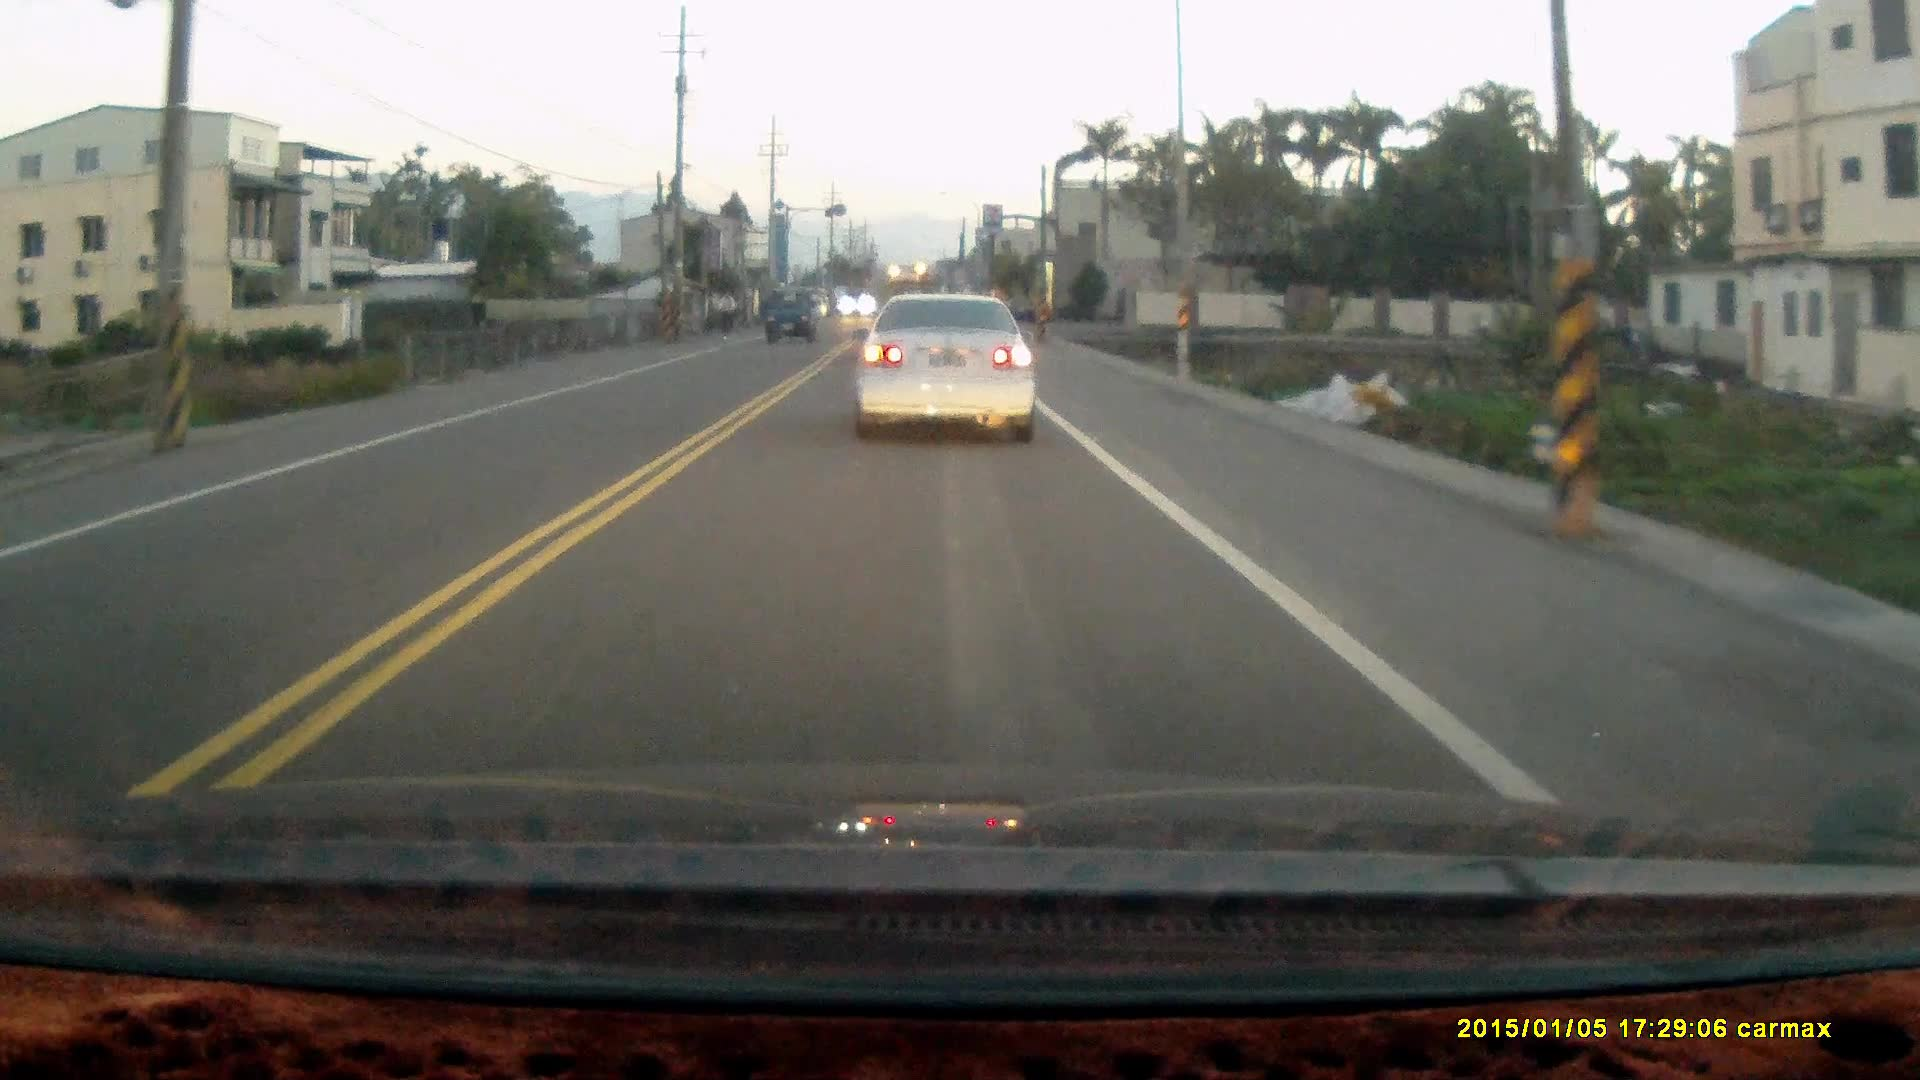rider: (715, 285, 737, 339)
vehicle: (855, 290, 1043, 430), (763, 286, 821, 346)
